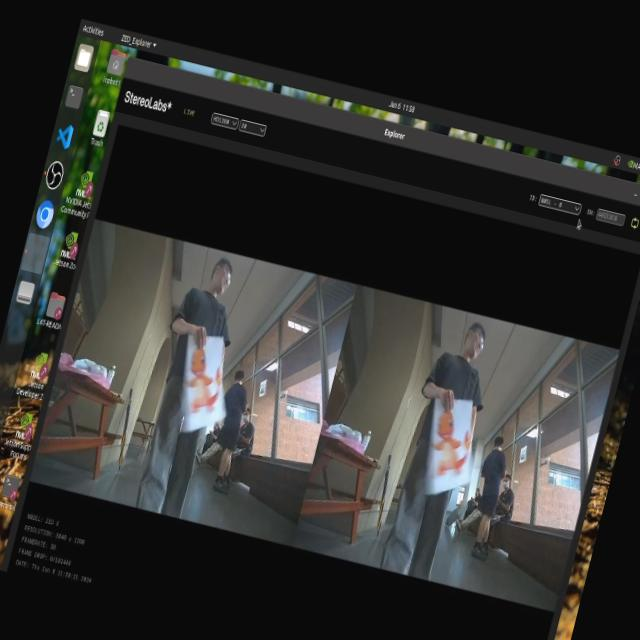red: (171, 338, 235, 436), (424, 396, 480, 476)
